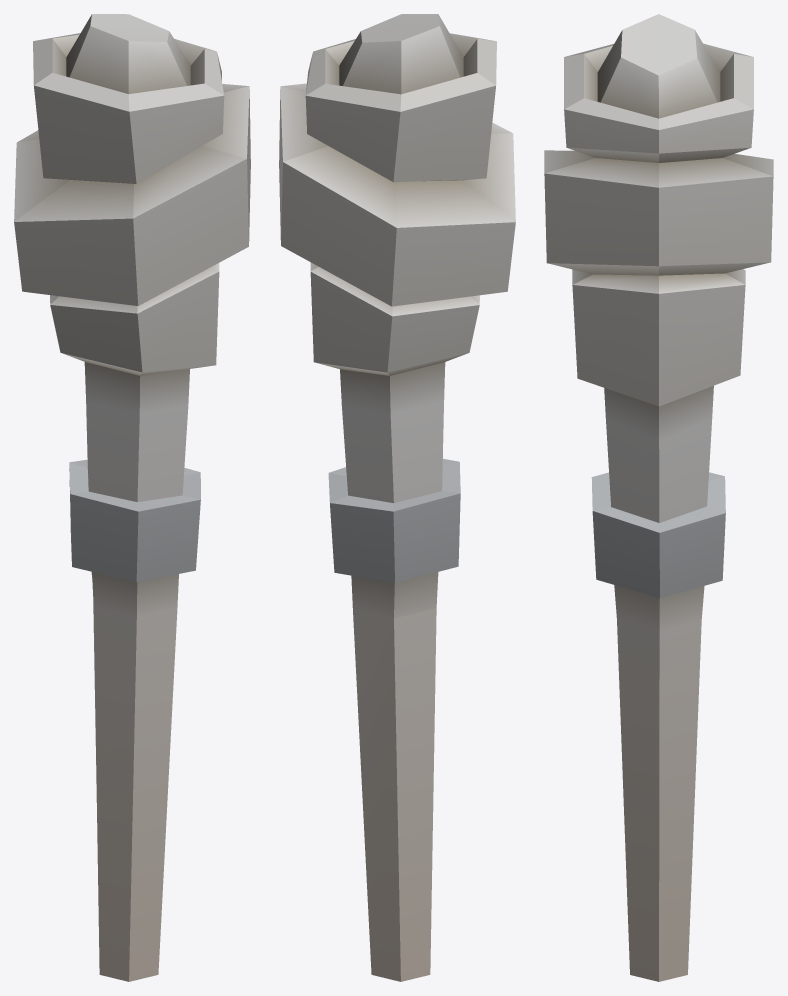
The model's file is torch_2.glb.
The picture shows the model from 3 angles, left to right: view 1: azimuth 30°, elevation 25°; view 2: azimuth 150°, elevation 25°; view 3: azimuth 270°, elevation 25°; orthographic projection.
Visible parts, largest first — view 1: torch; view 2: torch; view 3: torch.
Boxes of the visible parts, left/top/right/bottom form: torch: left=14, top=14, right=250, bottom=981; torch: left=279, top=14, right=515, bottom=981; torch: left=544, top=14, right=773, bottom=981.
Size of the model in its own units: 0.245 by 0.9399 by 0.2087.
